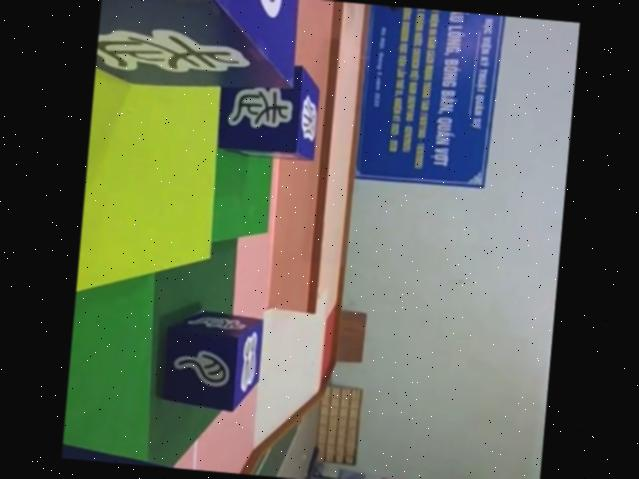R2 Fake Blue: (93, 0, 301, 93), (157, 308, 262, 414), (213, 59, 321, 162)
